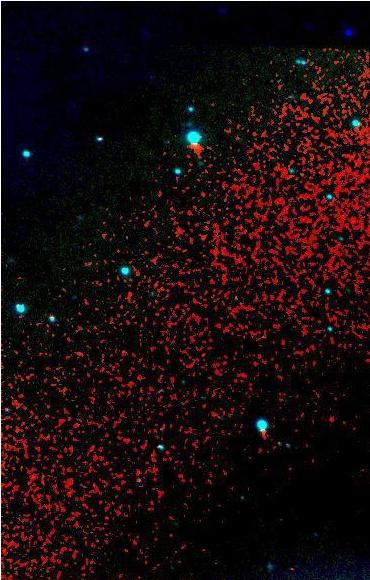star: (182, 129, 212, 159)
